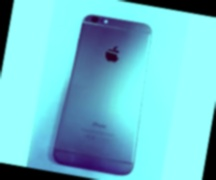iphone: (65, 18, 148, 172)
